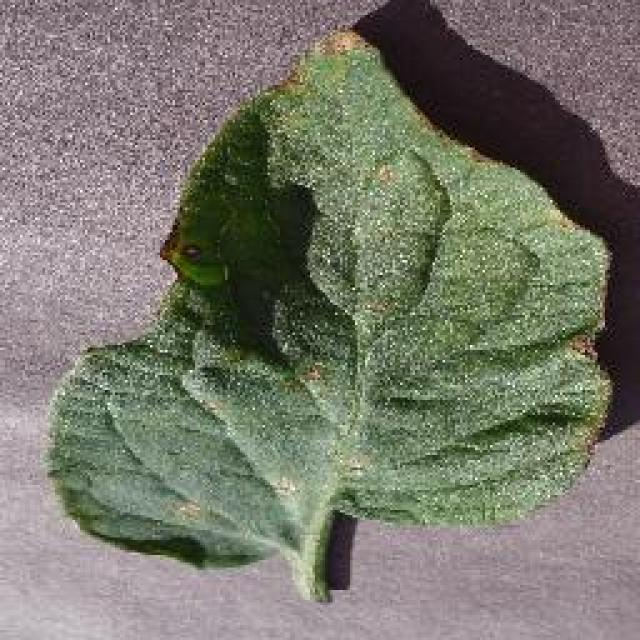Tom_Target_Spot: (268, 26, 387, 142), (264, 435, 378, 525), (151, 210, 245, 314)
